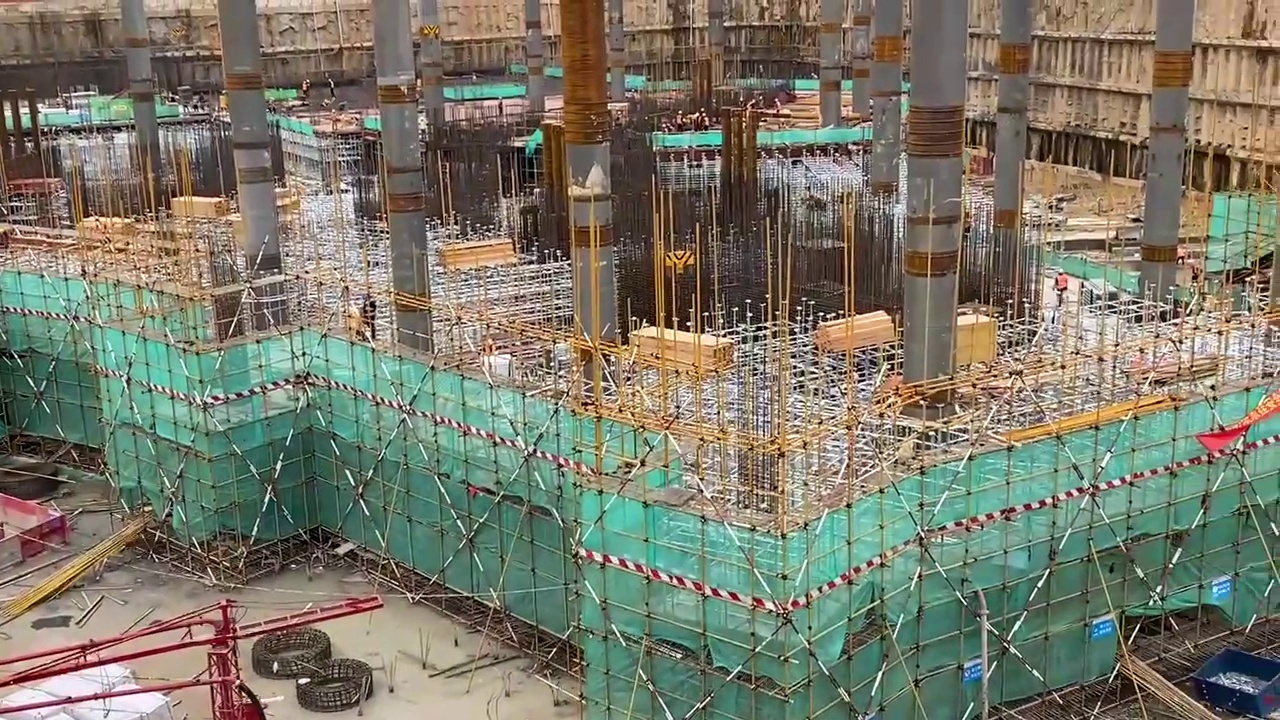fence: (1, 490, 69, 576)
hook: (664, 248, 694, 272)
hopper: (1191, 642, 1280, 712)
person: (1050, 264, 1067, 304)
wood: (630, 319, 733, 366), (818, 310, 892, 355), (440, 238, 514, 272), (172, 197, 234, 218)
